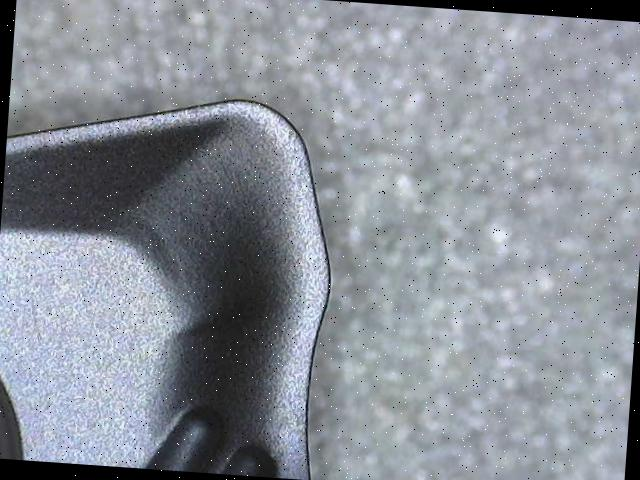normal: (6, 98, 333, 480)
